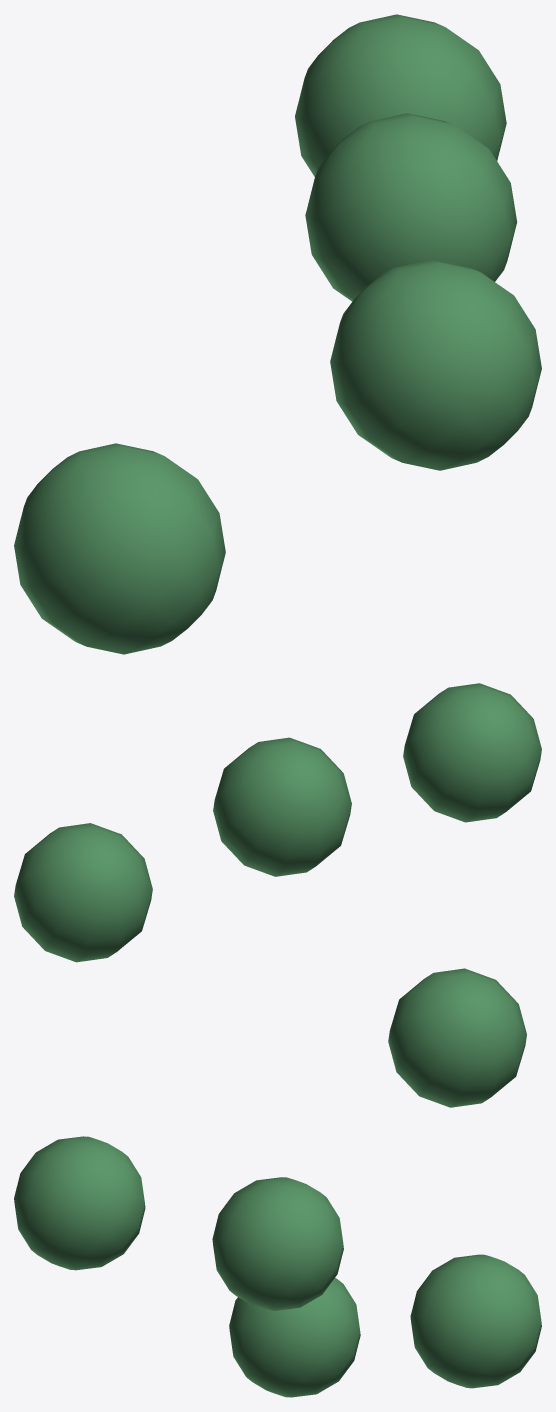
The picture shows the model from 3 angles, top to bottom: view 1: azimuth 30°, elevation 25°; view 2: azimuth 150°, elevation 25°; view 3: azimuth 270°, elevation 25°; orthographic projection. The views are drawn at different scales.
Visible parts, largest first — view 1: 左侧锁骨上淋巴结; view 2: 左侧锁骨上淋巴结; view 3: 左侧锁骨上淋巴结.
Boxes of the visible parts, left/top/right/bottom form: 左侧锁骨上淋巴结: left=14, top=14, right=541, bottom=654; 左侧锁骨上淋巴结: left=14, top=683, right=541, bottom=1107; 左侧锁骨上淋巴结: left=14, top=1136, right=541, bottom=1397.
Size of the model in its own units: 0.0126 by 0.0092 by 0.015.
